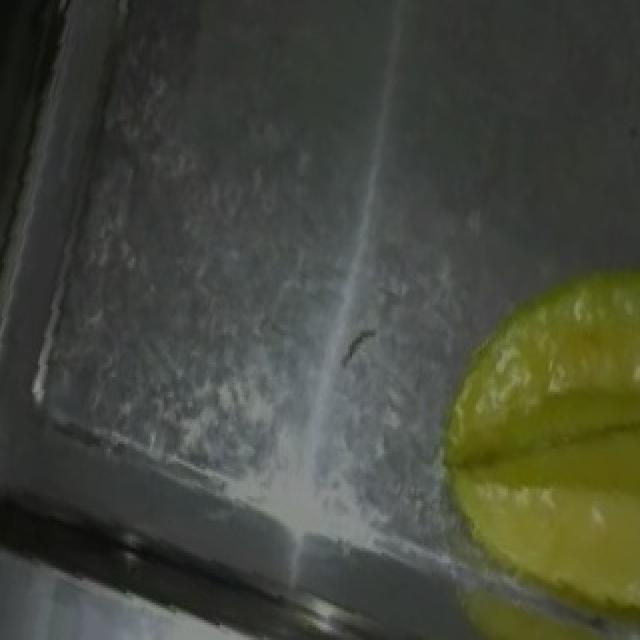fruit: (408, 235, 640, 640)
